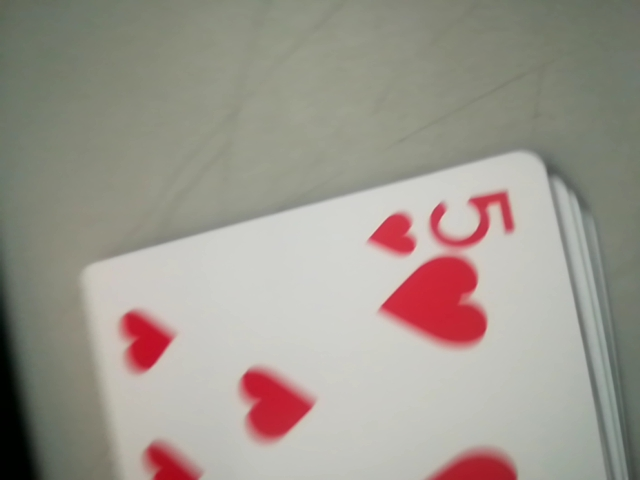hx 5: (365, 184, 526, 262)
